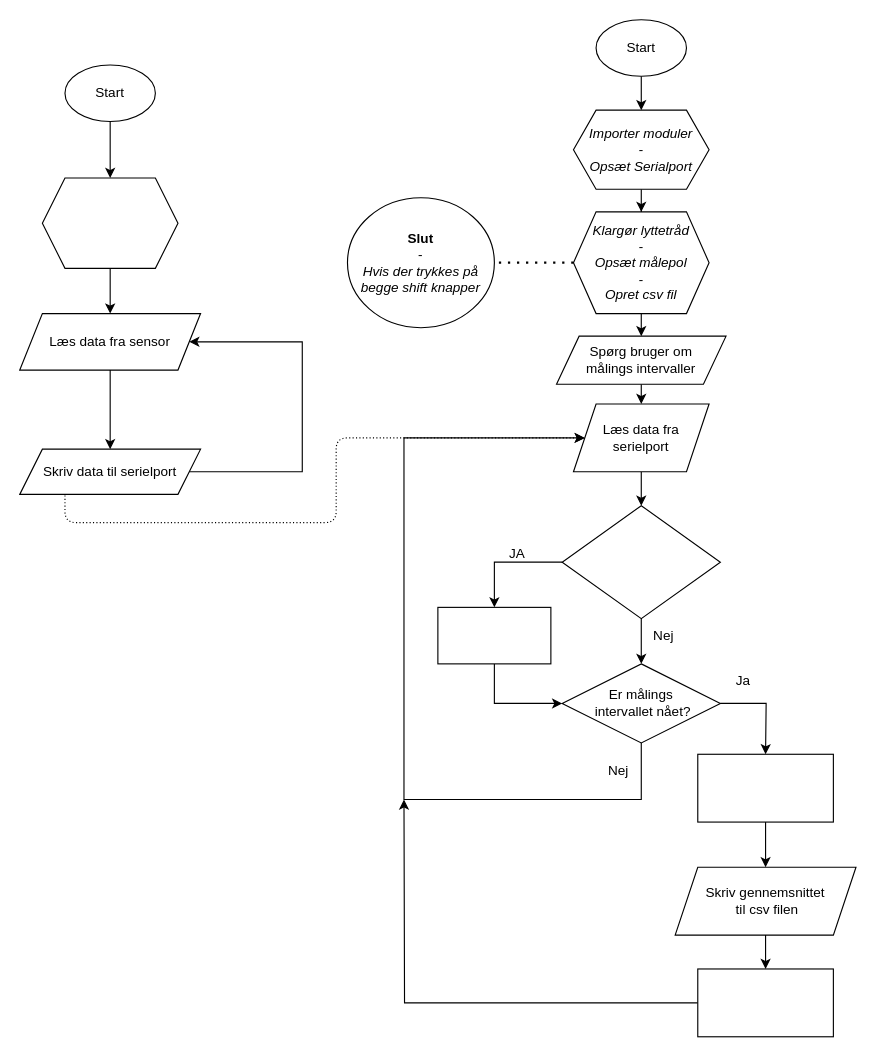
The diagram is 876 pixels wide and 1057 high, and some of its shapes have lost their labels. The shapes that lost their labels are listed below. From the top down, each one's centre as x and y in pixels, then its label:
At (109,222): "Start serialport - Skab kontakt til sensor".
At (640,562): "Er der kommet ny data siden sidst?".
At (494,635): "Skriv data ind i målepool'en".
At (765,787): "Tag gennemsnit at målepool'en".
At (765,1002): "Reset målepool'en".
